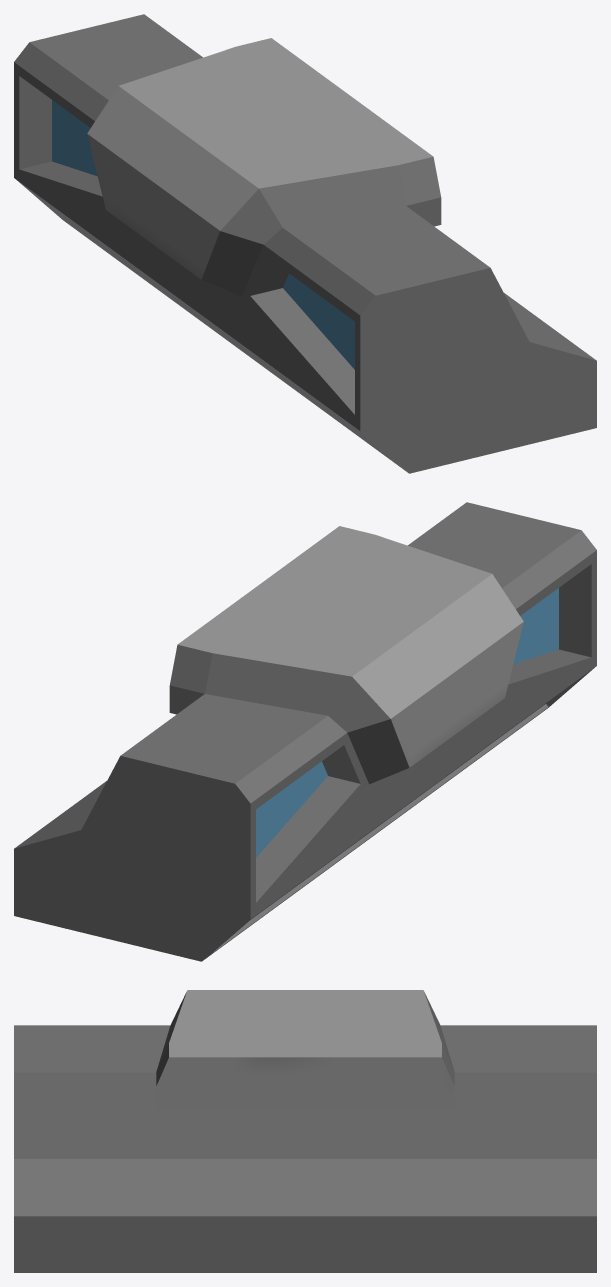
3 views of the same model, one above another, from view 1: azimuth 30°, elevation 25°; view 2: azimuth 150°, elevation 25°; view 3: azimuth 270°, elevation 25° (orthographic). The views are drawn at different scales.
Visible parts, largest first — view 1: SM_B_Part12; view 2: SM_B_Part12; view 3: SM_B_Part12.
Boxes of the visible parts, x1=… form: SM_B_Part12: x1=14, y1=14, x2=596, y2=473; SM_B_Part12: x1=14, y1=502, x2=596, y2=961; SM_B_Part12: x1=14, y1=990, x2=596, y2=1272.
Bounding box in the file's own units: 110 × 243 × 85.79.
